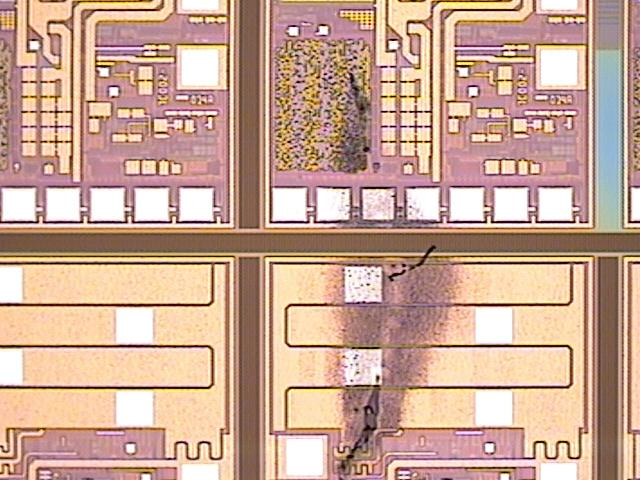PO CONTAMINATION: (290, 65, 472, 480)
